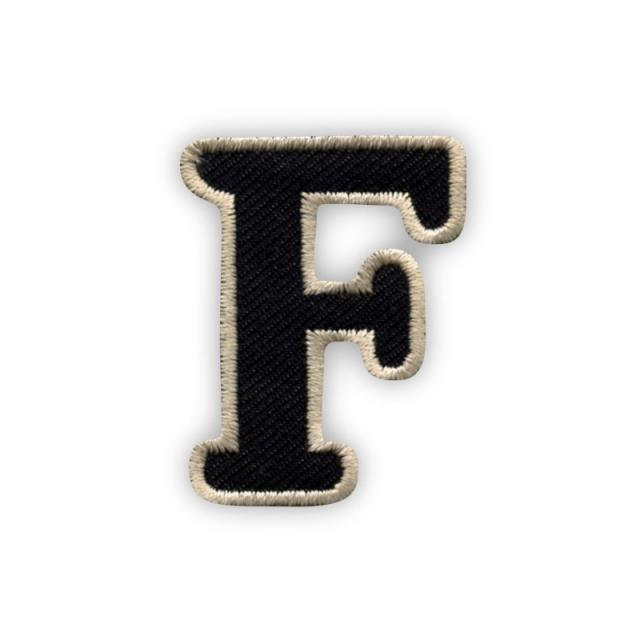F: (129, 73, 477, 575)
